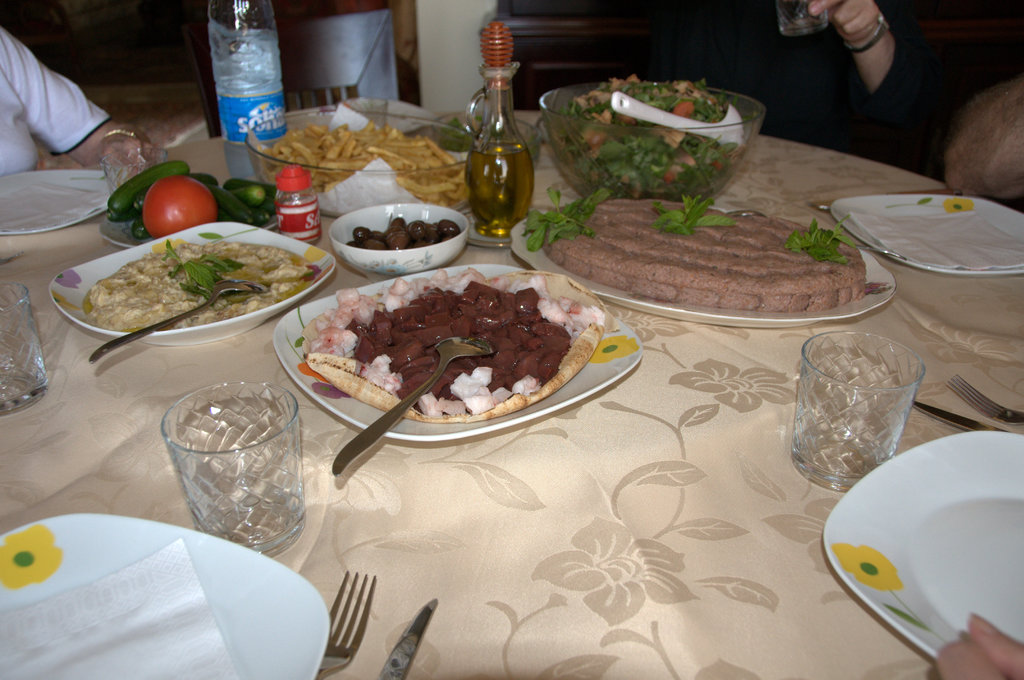plate: (269, 252, 639, 453), (0, 494, 331, 679)
